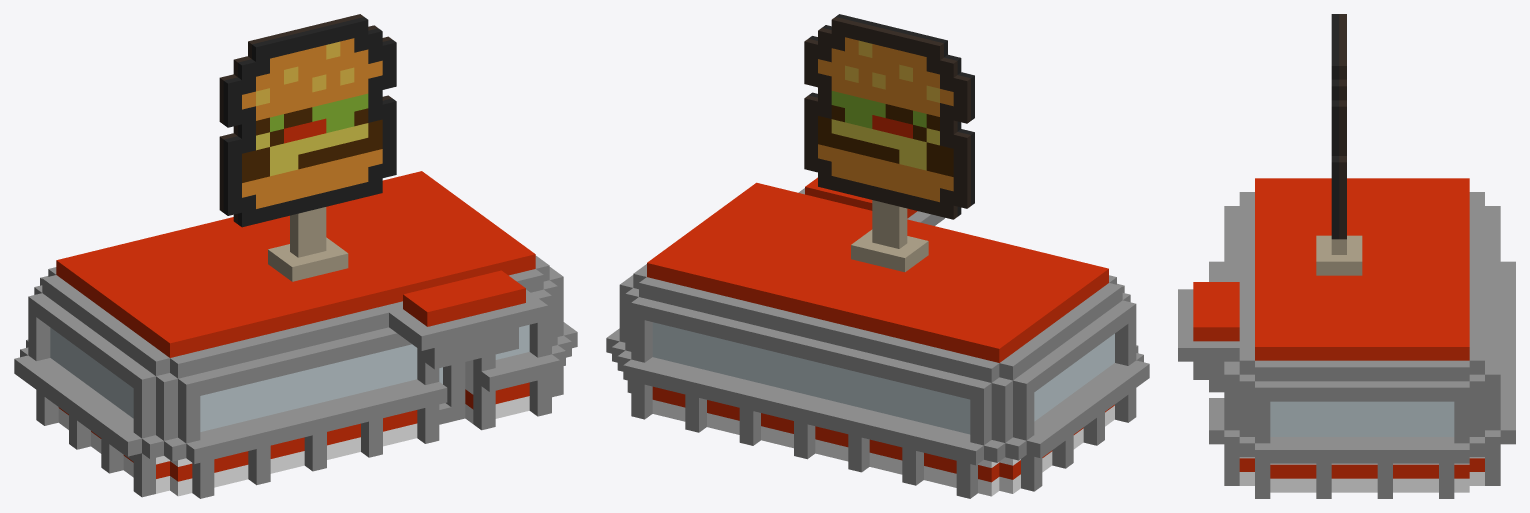
The model's file is burger_diner.obj.
3 renders of one model, left to right at view 1: azimuth 30°, elevation 25°; view 2: azimuth 150°, elevation 25°; view 3: azimuth 270°, elevation 25°, orthographic. The views are drawn at different scales.
Bounding box in the file's own units: 64 × 52 × 44.
Materials: 1 (1 with a texture image).
